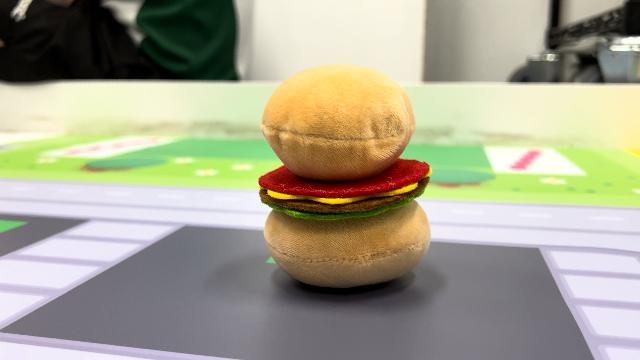burger: (252, 59, 438, 290)
